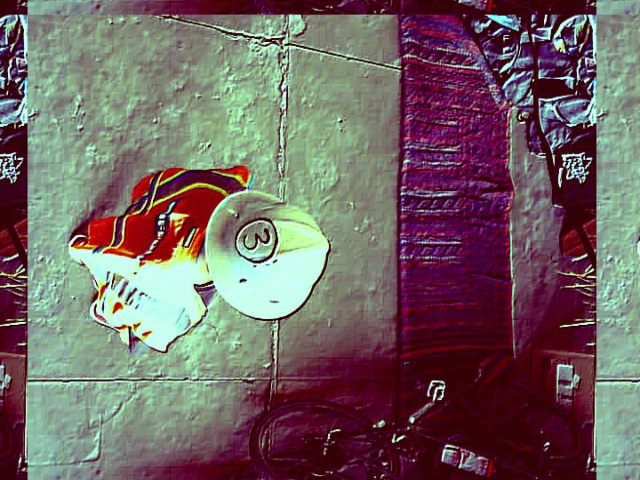three: (235, 217, 279, 263)
